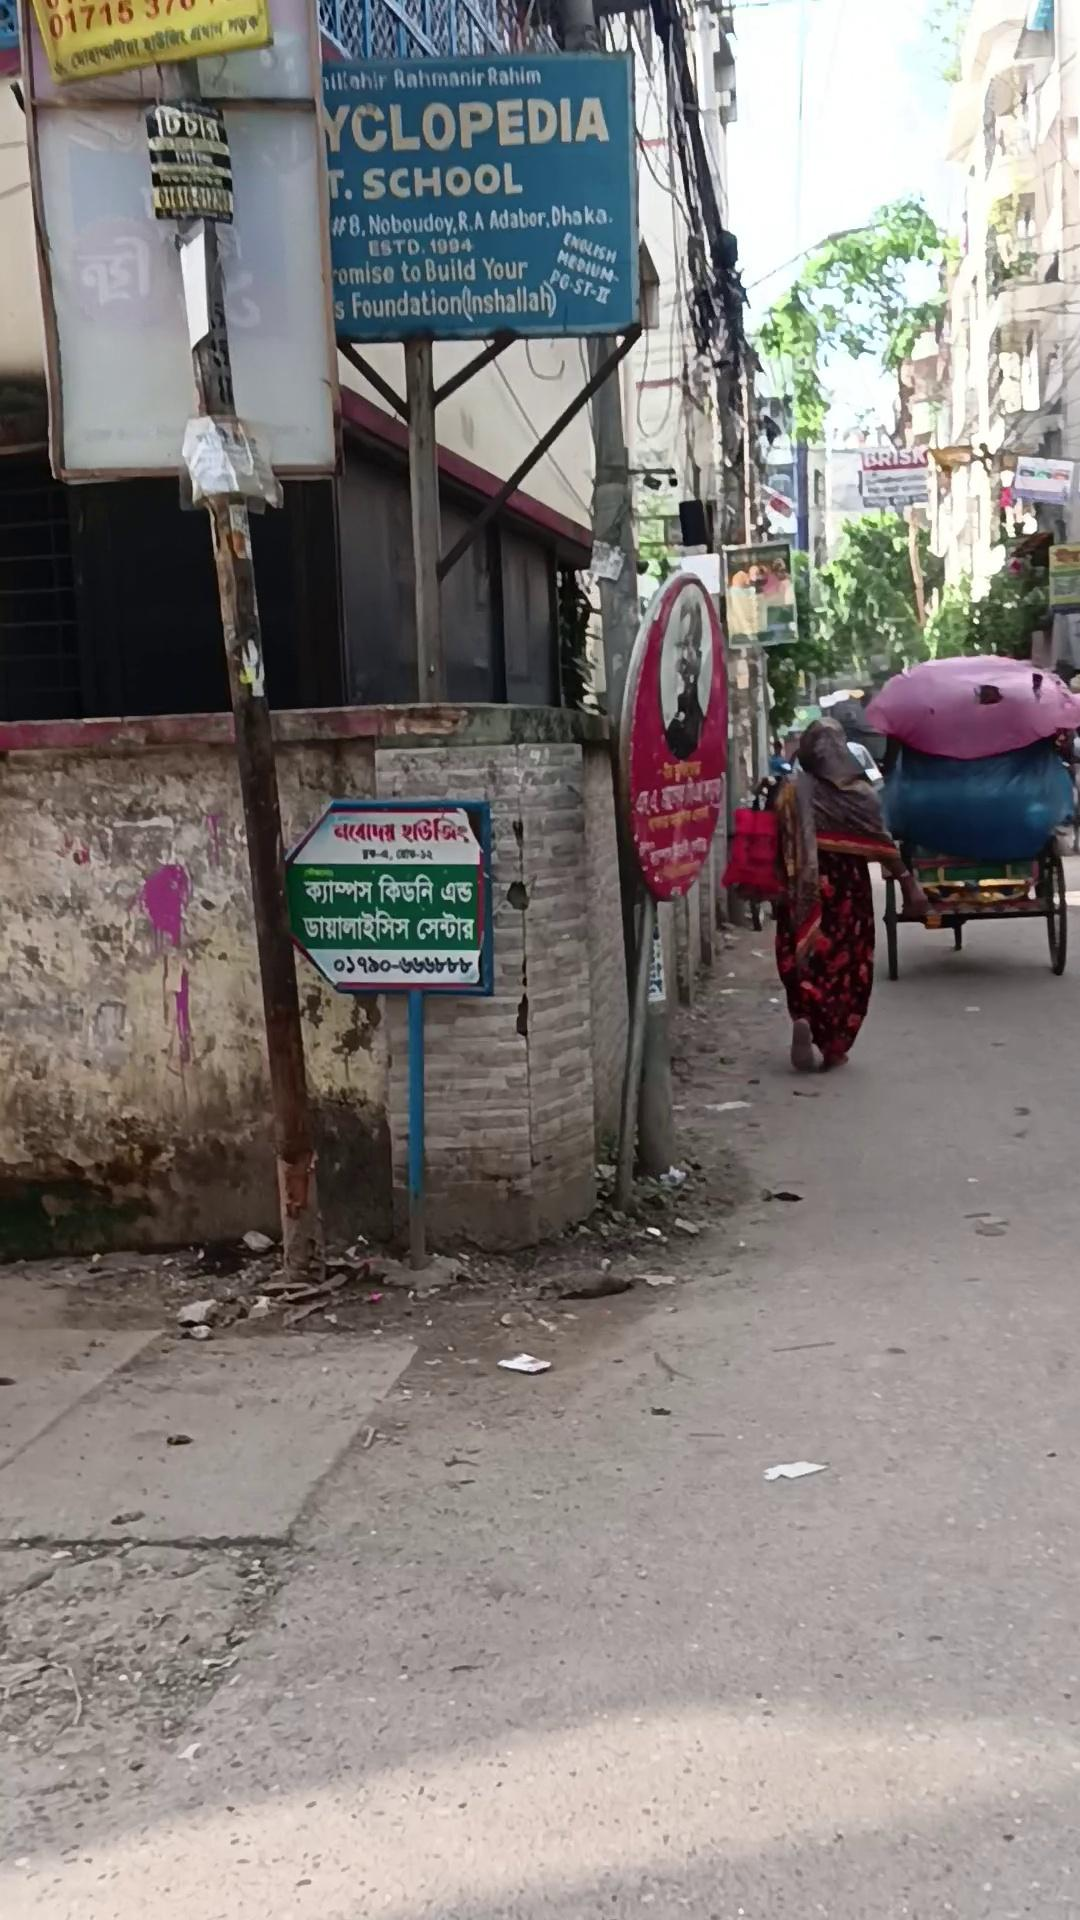Broken-road: (8, 1250, 302, 1883)
Muddy road: (767, 715, 924, 1073)
Obstacle: (193, 476, 322, 1279)
Pothole: (877, 670, 1080, 980)
Stuck-water: (281, 796, 495, 996)
Tree: (0, 709, 575, 1253)
